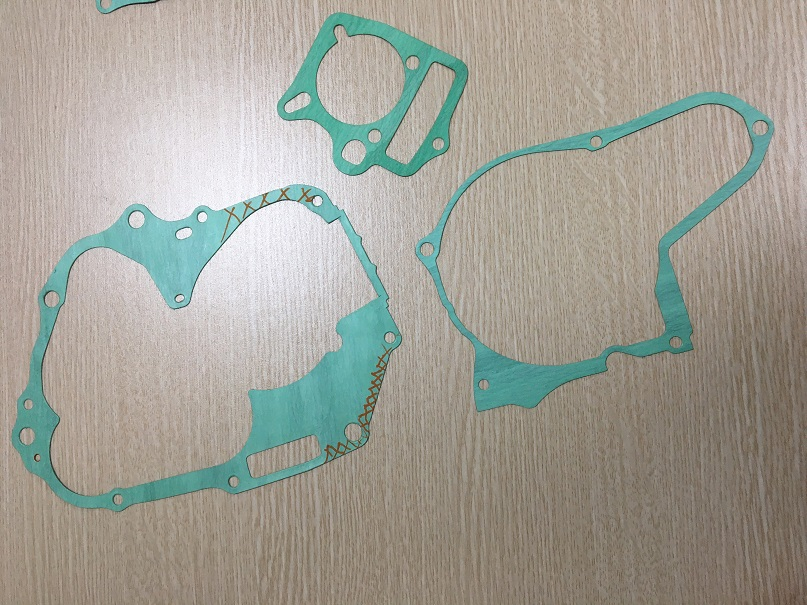type1: (404, 85, 784, 420)
type3: (9, 184, 406, 518)
type4: (273, 6, 475, 182)
